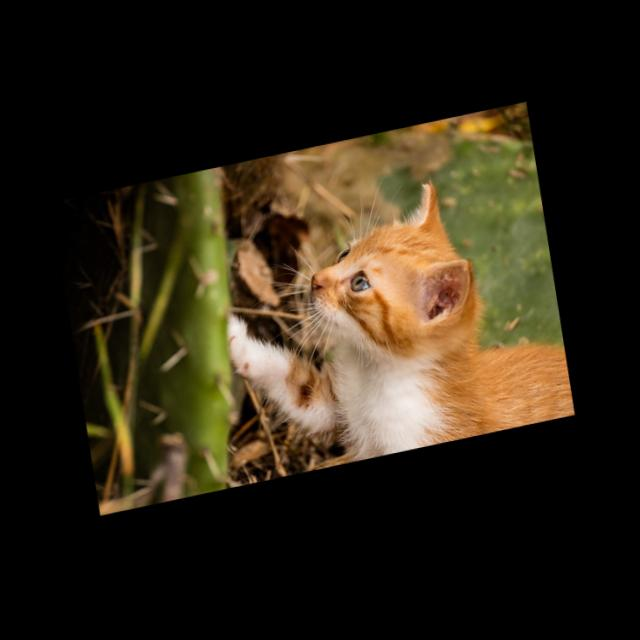animals: (204, 159, 581, 487)
